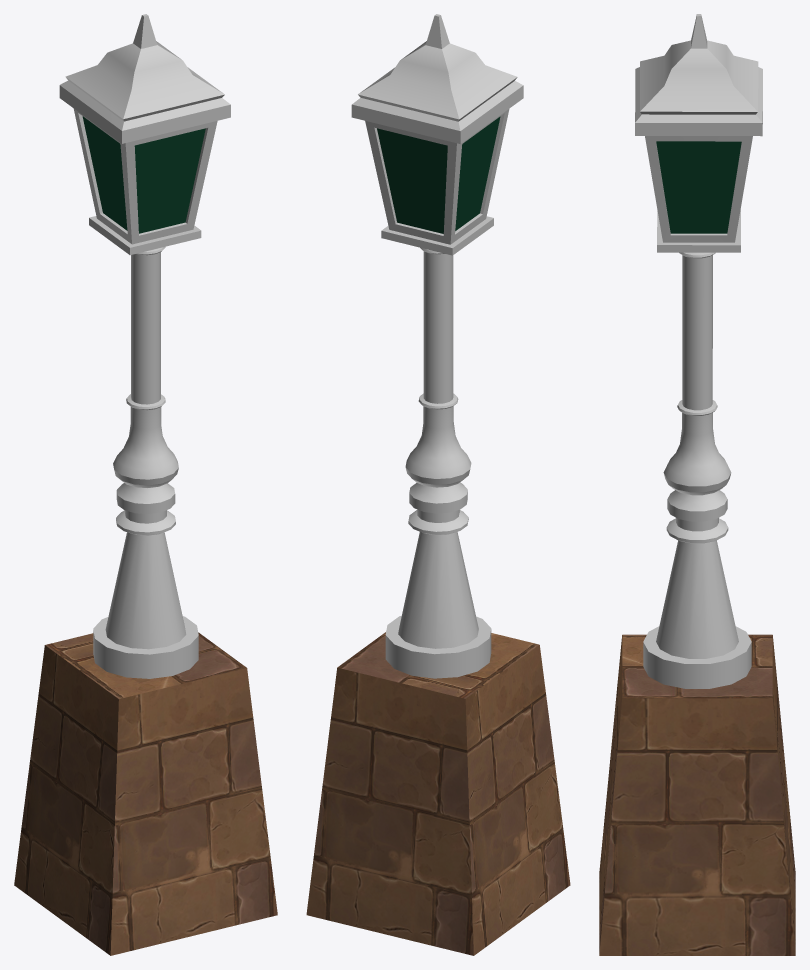
Rendered from Lamp2.obj.
The picture shows the model from 3 angles, left to right: view 1: azimuth 30°, elevation 25°; view 2: azimuth 150°, elevation 25°; view 3: azimuth 270°, elevation 25°; orthographic projection.
Parts seen in each view (by area): view 1: Lamp2; view 2: Lamp2; view 3: Lamp2.
Part boxes in pixels (<box>): Lamp2: <box>14,14,277,955</box>; Lamp2: <box>306,14,570,955</box>; Lamp2: <box>599,14,795,955</box>.
Size of the model in its own units: 0.3351 by 1.69 by 0.3351.
